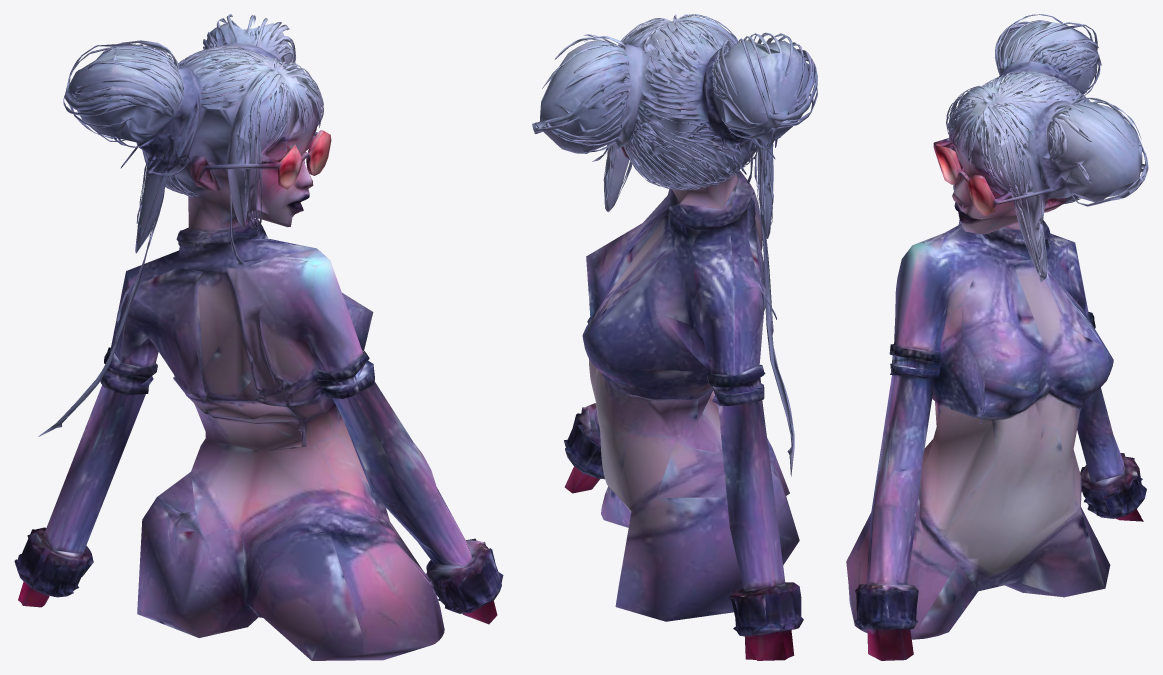
Rendered from 01a1980b-0256-7cac-9963-c6e5e7137cde.glb.
The picture shows the model from 3 angles, left to right: view 1: azimuth 30°, elevation 25°; view 2: azimuth 150°, elevation 25°; view 3: azimuth 270°, elevation 25°; orthographic projection. The views are drawn at different scales.
Parts seen in each view (by area): view 1: node_0; view 2: node_0; view 3: node_0.
Part boxes in pixels (x1,y1,x2,y2): node_0: (14,14,503,660); node_0: (532,14,817,660); node_0: (846,14,1148,660).
Bounding box in the file's own units: 0.616 × 0.9456 × 0.5043.
Materials: 1 (1 with a texture image).
